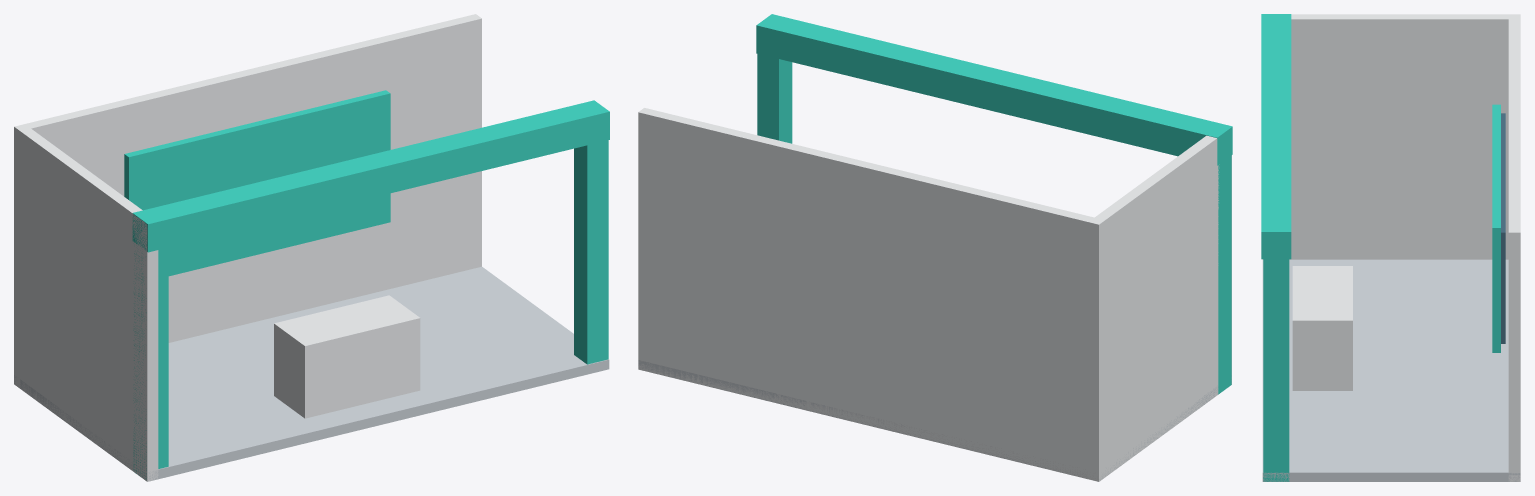
The picture shows the model from 3 angles, left to right: view 1: azimuth 30°, elevation 25°; view 2: azimuth 150°, elevation 25°; view 3: azimuth 270°, elevation 25°; orthographic projection. The views are drawn at different scales.
Visible parts, largest first — view 1: Exhibition Booth Concept; view 2: Exhibition Booth Concept; view 3: Exhibition Booth Concept.
Boxes of the visible parts, left/top/right/bottom form: Exhibition Booth Concept: left=14, top=14, right=609, bottom=481; Exhibition Booth Concept: left=638, top=14, right=1232, bottom=481; Exhibition Booth Concept: left=1261, top=14, right=1520, bottom=481.
Bounding box in the file's own units: 6 × 3.2 × 3.01.
